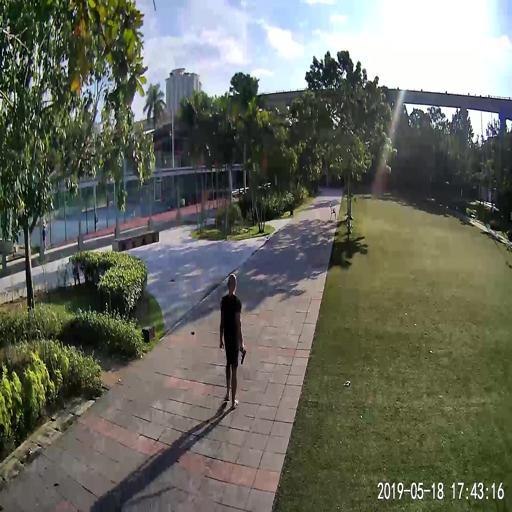Handgun: (238, 344, 245, 364)
